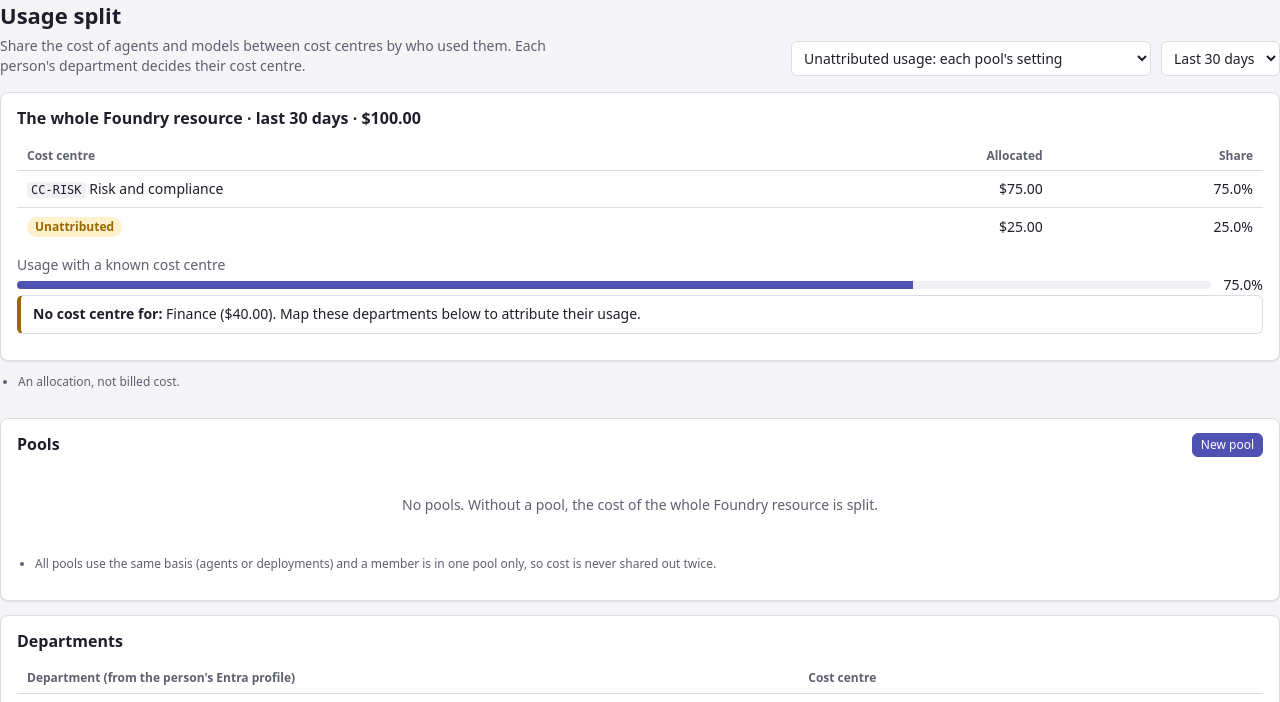
Test case: UsageSplitPage › shows the service's reason when a pool is refused
This screenshot has width=1280, height=702.
Expected: the text "$75.00" is shown, [783, 171, 1053, 208]
Step 1. Click the button "New pool" → [1227, 445], box [1192, 433, 1263, 456]
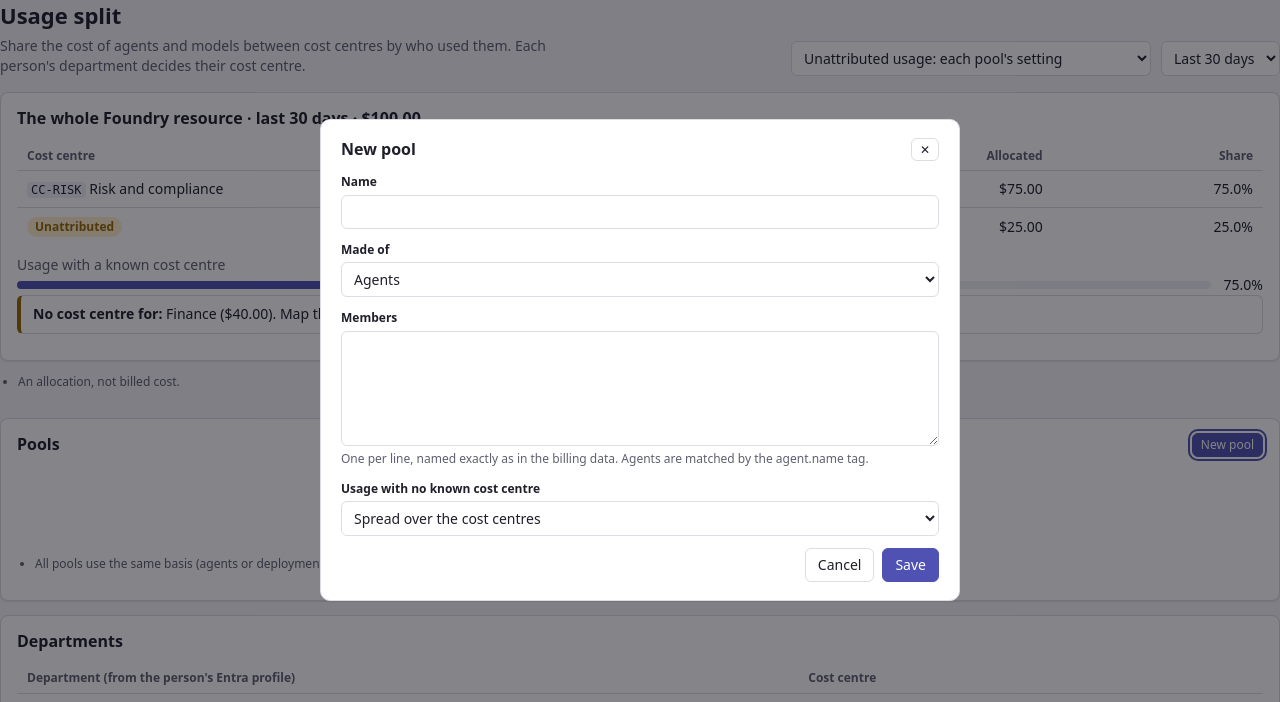
Step 2. Type "P" into the field labelled "Name" → [640, 212], box [341, 195, 939, 229]
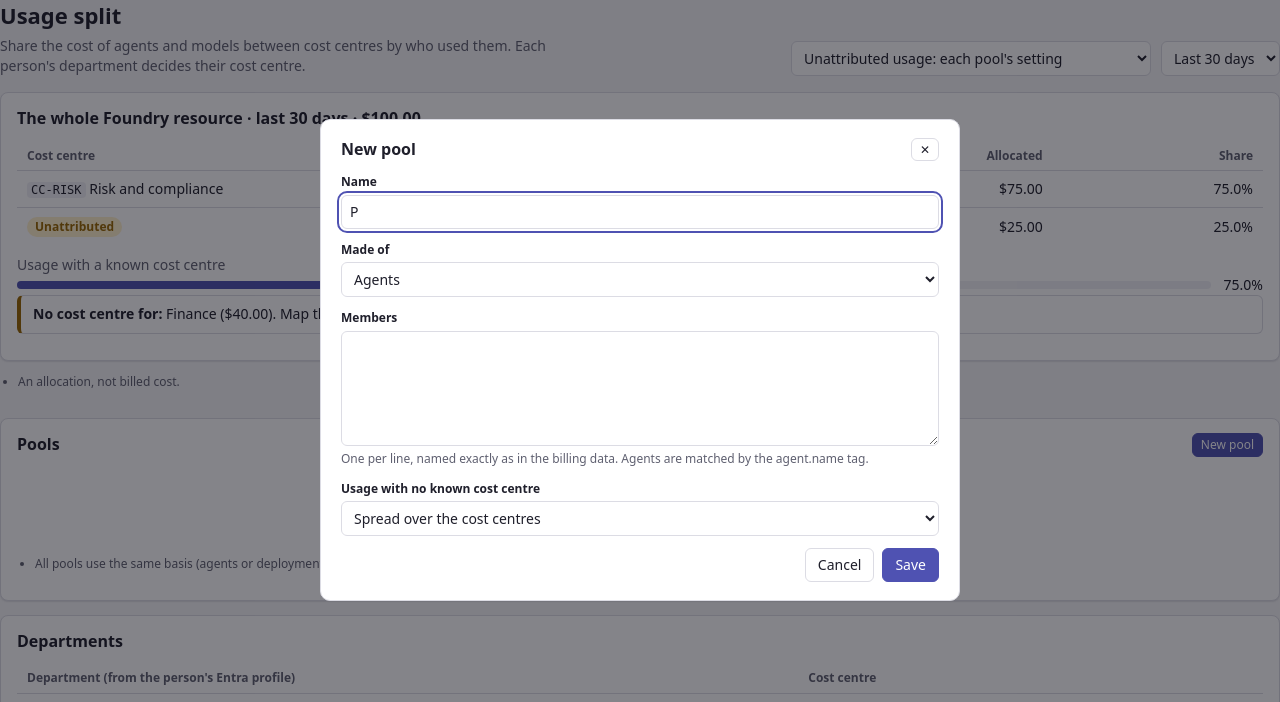
Step 3. Type "x" into the text box labelled "Members" → [640, 388], box [341, 331, 939, 446]
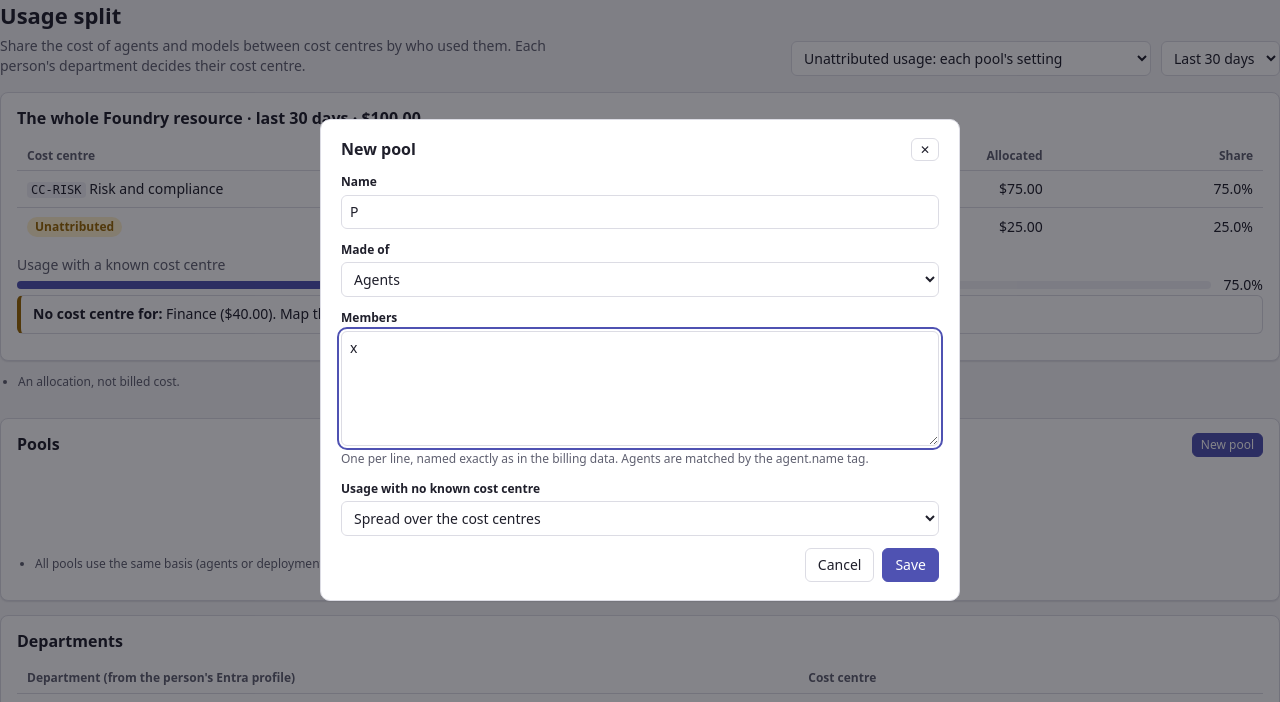
Step 4. Click the button "Save" → [911, 565], box [882, 548, 939, 582]
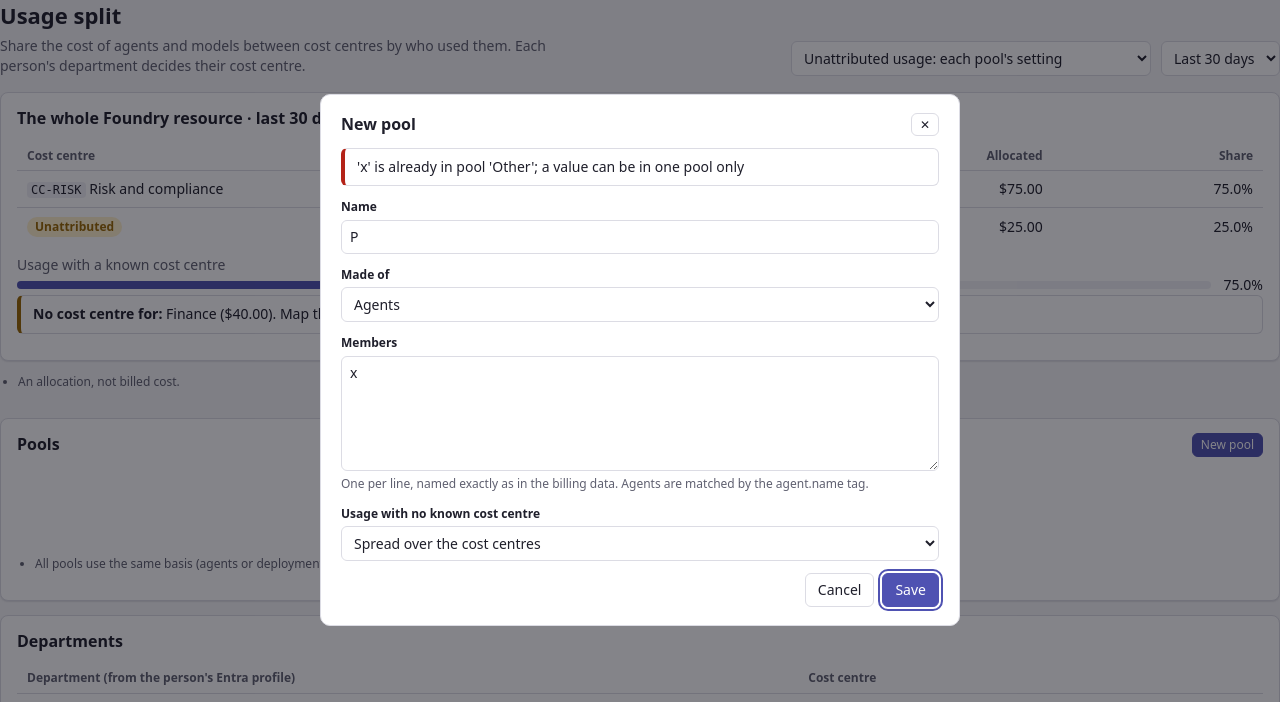
Result: the message shows "already in pool" at [357, 157, 744, 176]
